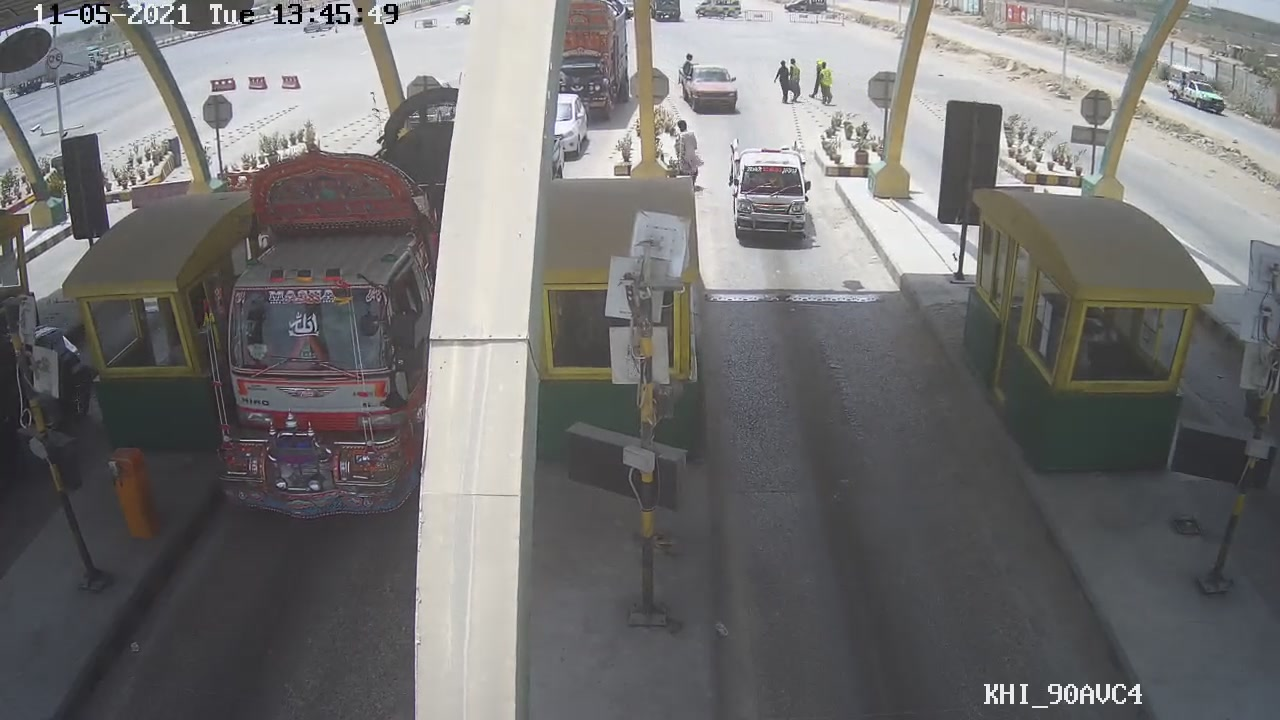F1: (723, 125, 827, 264)
